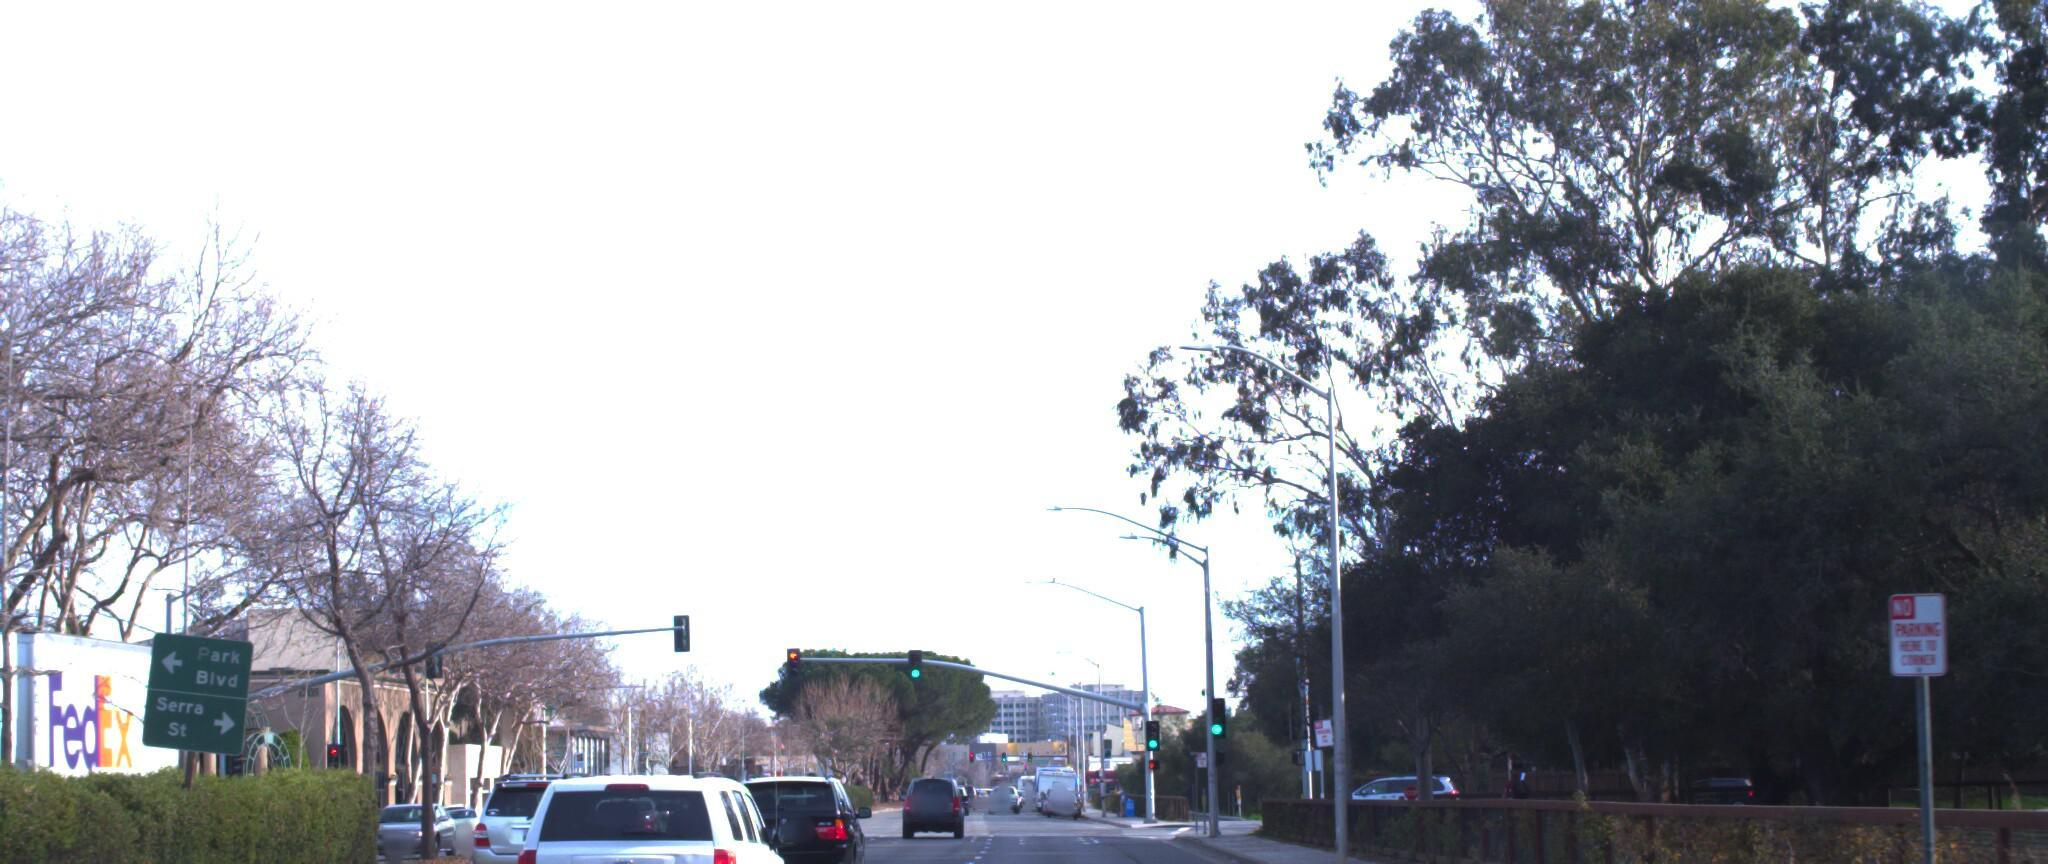car: (492, 754, 806, 864), (716, 767, 869, 864)
truck: (0, 623, 213, 864)
